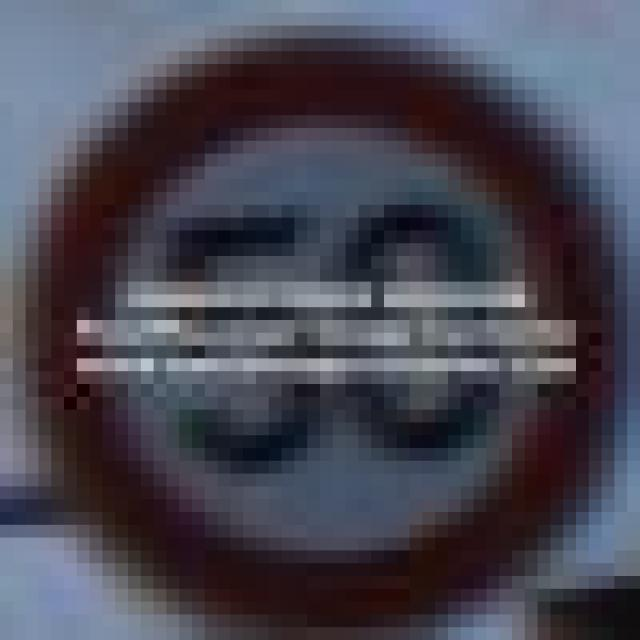SPEED_LIMIT_50: (26, 38, 588, 589)
